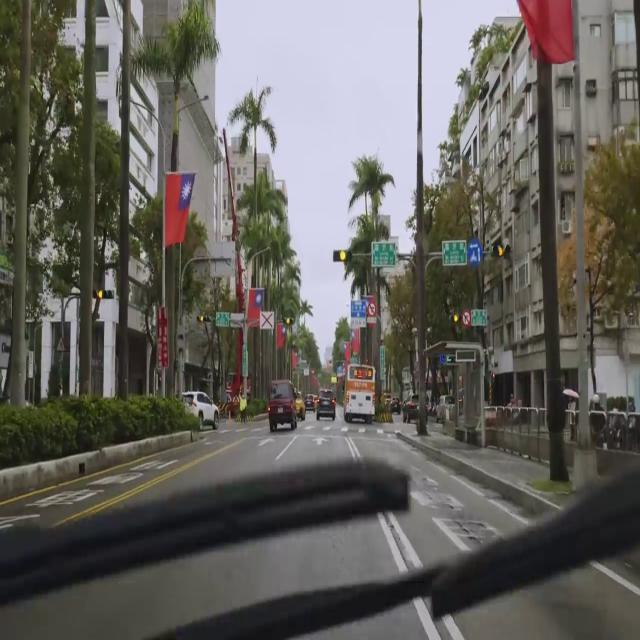yellow light: (332, 250, 352, 262), (283, 316, 295, 326)
